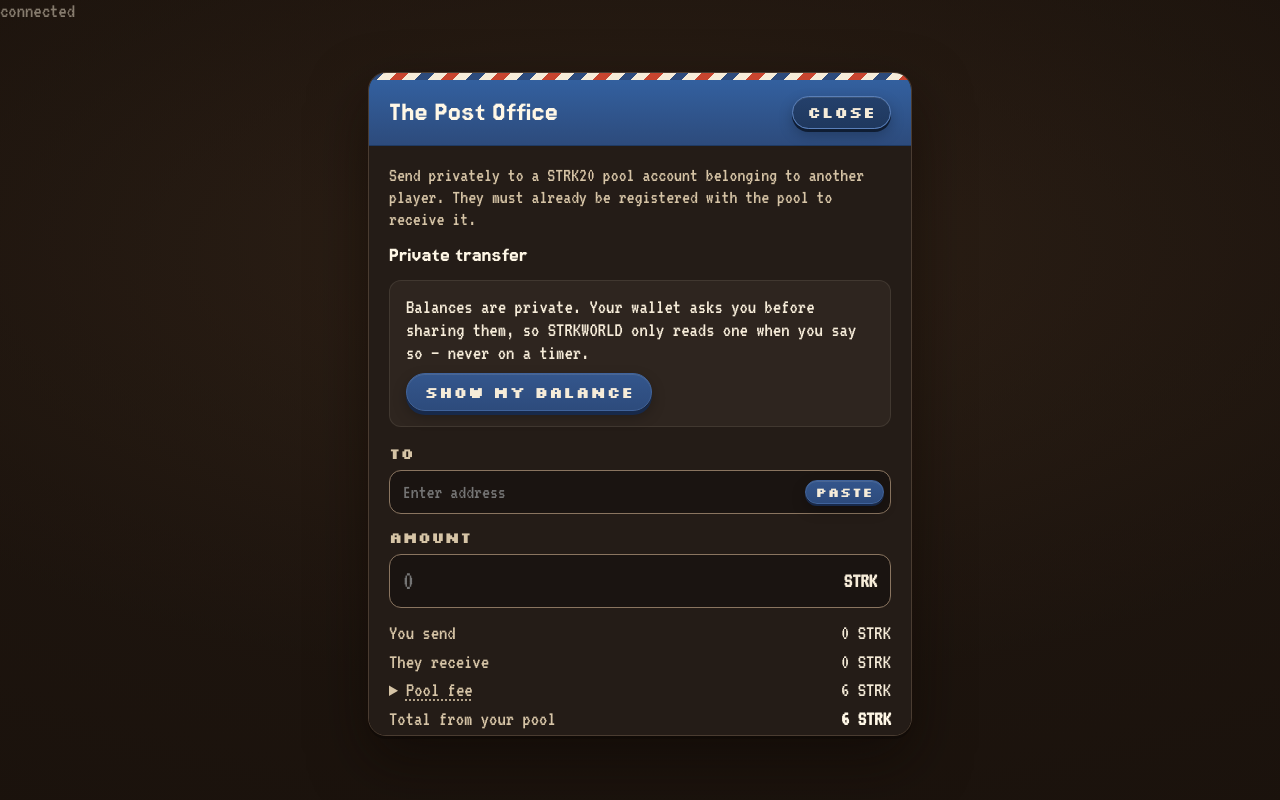
Test: a Post Office send, wallet style (D-091) › pastes the recipient from the clipboard when the browser offers one
Click the button "Paste".
click(844, 492)  # box x1=805 y1=480 x2=884 y2=504
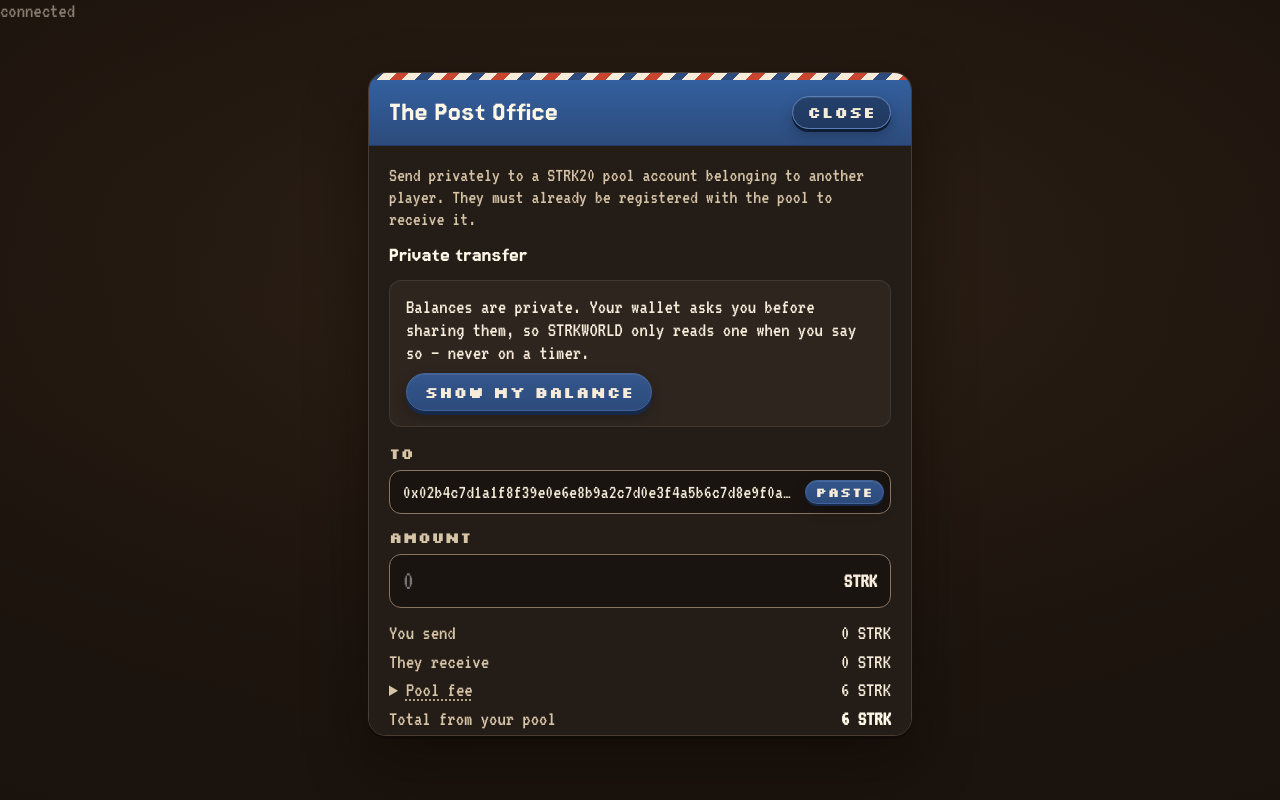
Check: the field named "recipient" holds "0x02b4c7d1a1f8f39e0e6e8b9a2c7d0e3f4a5b6c7d8e9f0a1b2c3d4e5f60718293", box x1=403 y1=475 x2=797 y2=508
